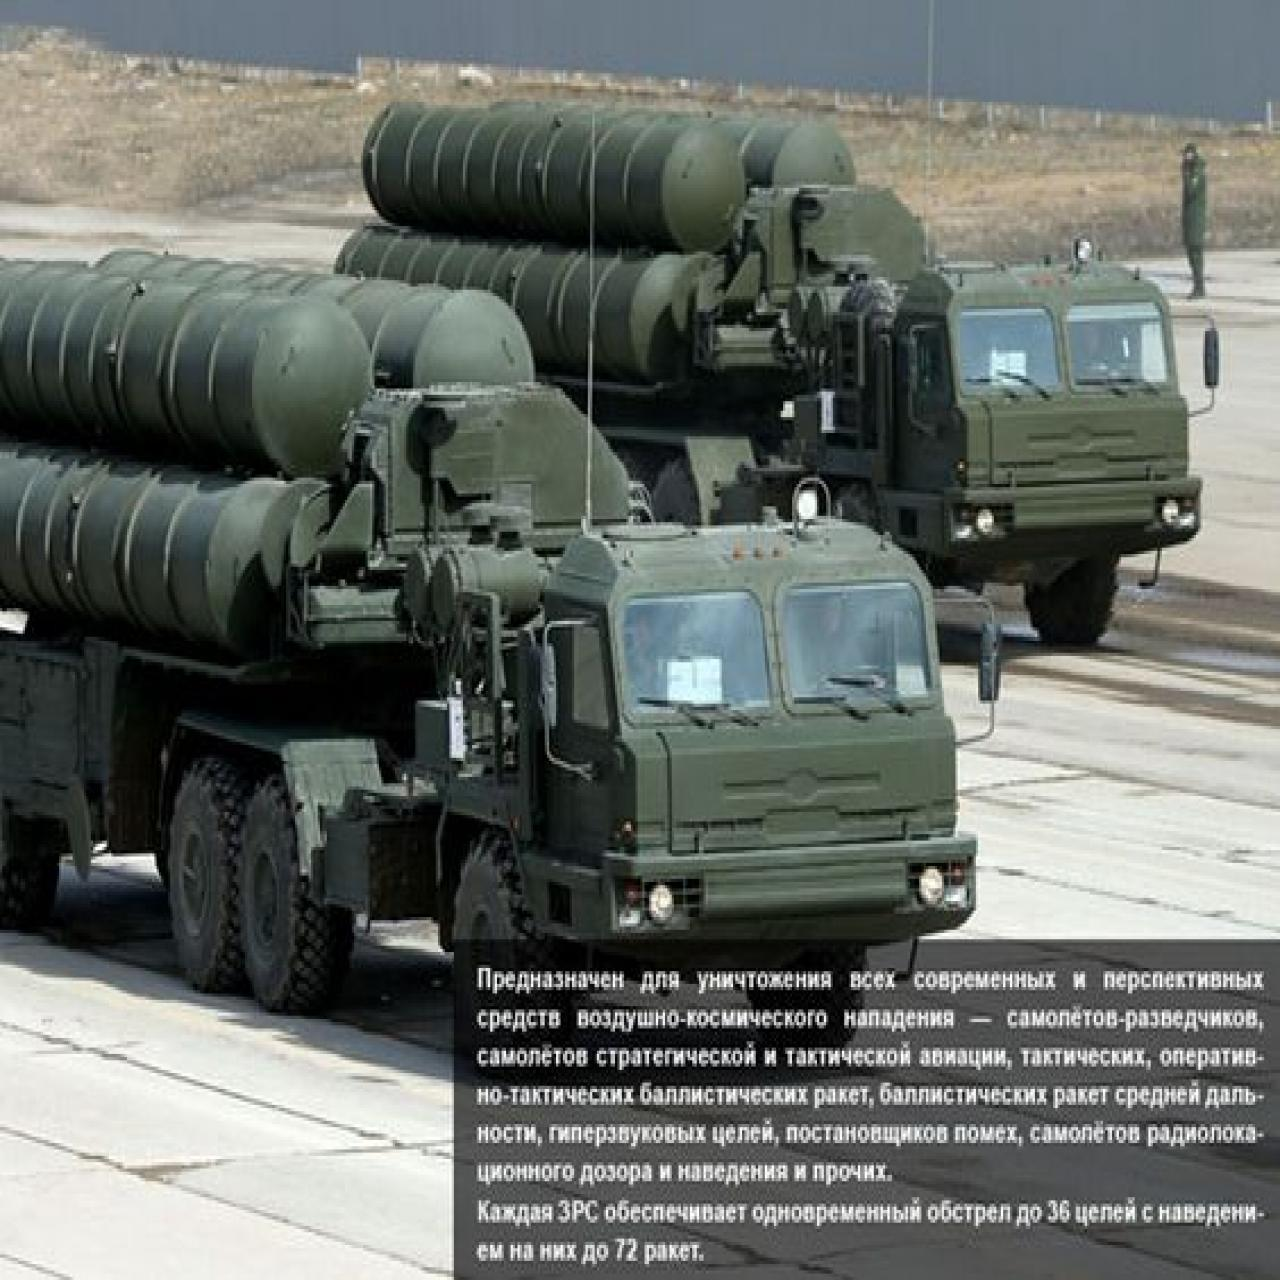MIL_Veh: (0, 247, 971, 938), (359, 102, 1203, 644)
